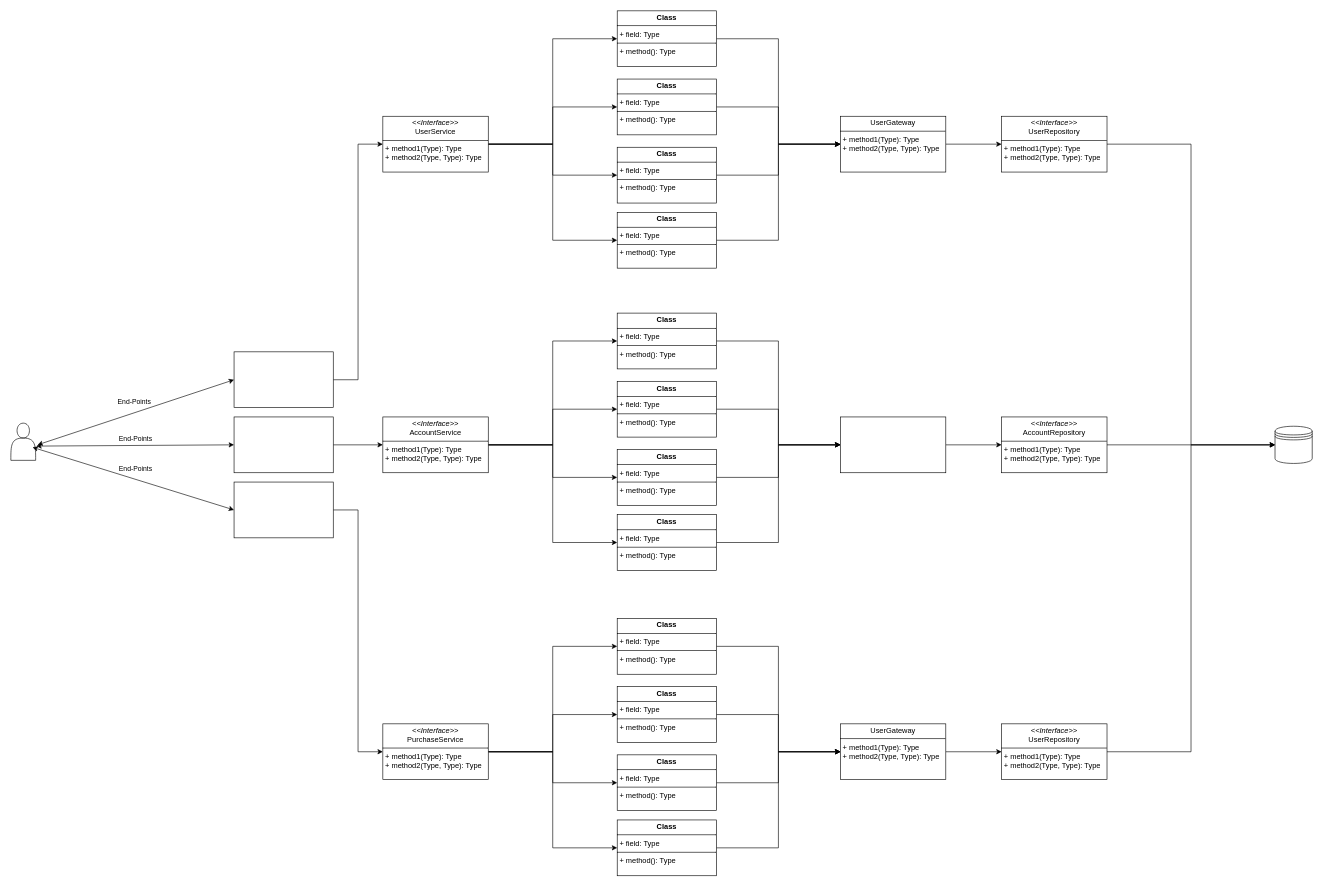
Some shapes in this 1323 by 887 pixel diagram are drawn without their labels. Each missing label, with the centre of its shape:
AccountController + field: Type + method(): Type: the point at 283,444
AccountGateway + method1(Type): Type + method2(Type, Type): Type: the point at 893,444
PurchasesController + field: Type + method(): Type: the point at 283,509
UserController + field: Type + method(): Type: the point at 283,379
